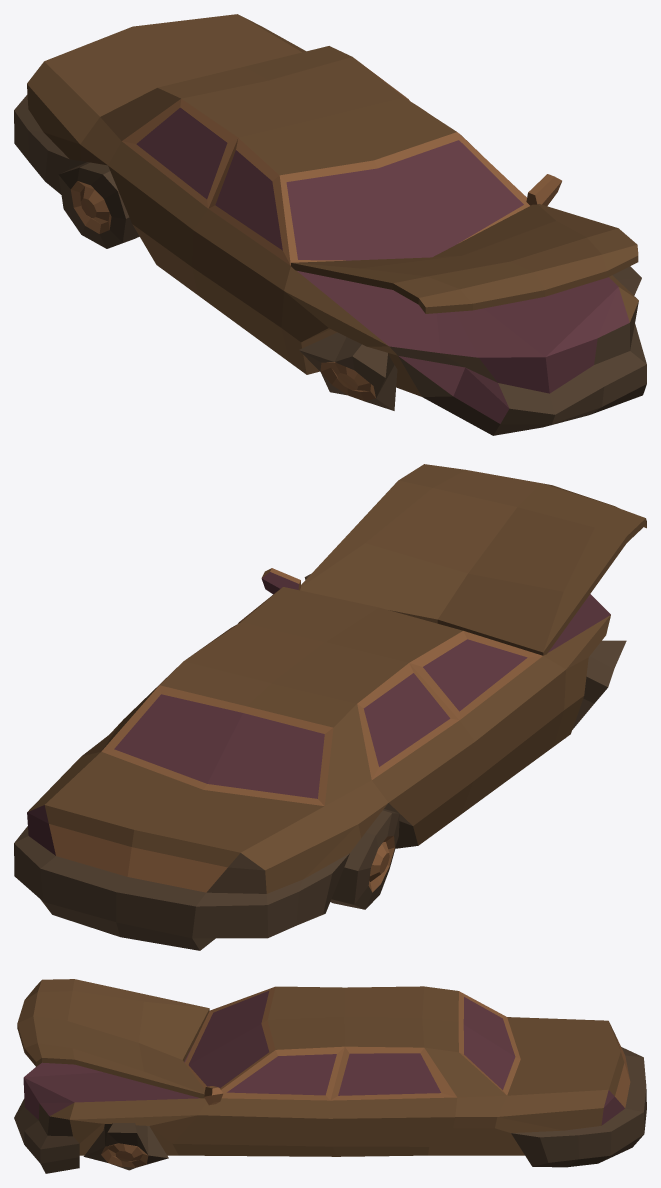
File: car-destroyed-apocalypse-b.fbx
The picture shows the model from 3 angles, top to bottom: view 1: azimuth 30°, elevation 25°; view 2: azimuth 150°, elevation 25°; view 3: azimuth 270°, elevation 25°; orthographic projection. The views are drawn at different scales.
Parts seen in each view (by area): view 1: car-destroyed-apocalypse-b; view 2: car-destroyed-apocalypse-b; view 3: car-destroyed-apocalypse-b.
Part boxes in pixels (x1,y1,x2,y2): car-destroyed-apocalypse-b: (14, 14, 646, 435); car-destroyed-apocalypse-b: (14, 464, 646, 950); car-destroyed-apocalypse-b: (14, 979, 646, 1173).
Size of the model in its own units: 2.18 by 1.06 by 5.21.
